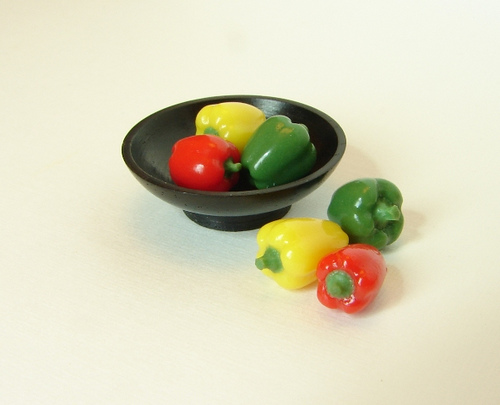capsicum: (254, 216, 350, 290), (241, 114, 319, 190), (327, 177, 407, 248), (314, 239, 388, 312), (167, 132, 243, 193), (191, 101, 267, 147)
